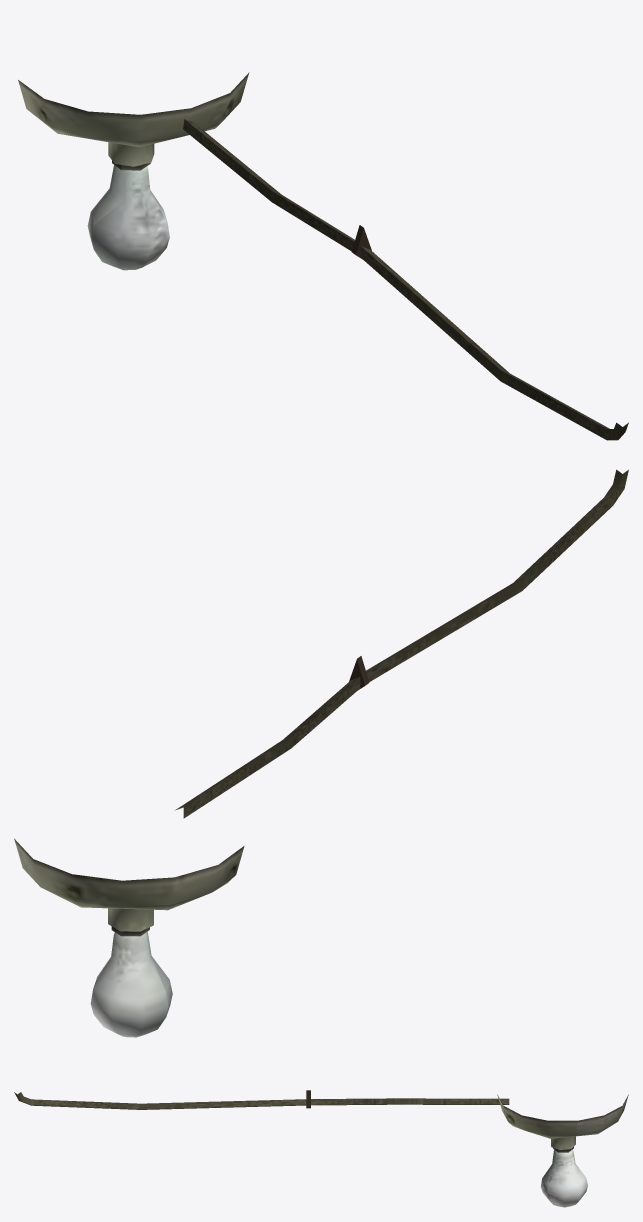
Rendered from lightbulb01a.glb.
The picture shows the model from 3 angles, top to bottom: view 1: azimuth 30°, elevation 25°; view 2: azimuth 150°, elevation 25°; view 3: azimuth 270°, elevation 25°; orthographic projection. The views are drawn at different scales.
Parts seen in each view (by area): view 1: 0_LightBulb01a; view 2: 0_LightBulb01a; view 3: 0_LightBulb01a.
Part boxes in pixels (<box>): 0_LightBulb01a: <box>18,72,628,440</box>; 0_LightBulb01a: <box>14,469,628,1037</box>; 0_LightBulb01a: <box>14,1090,628,1207</box>.
Bounding box in the file's own units: 0.3401 × 0.3384 × 1.63.
Materials: 1 (1 with a texture image).
